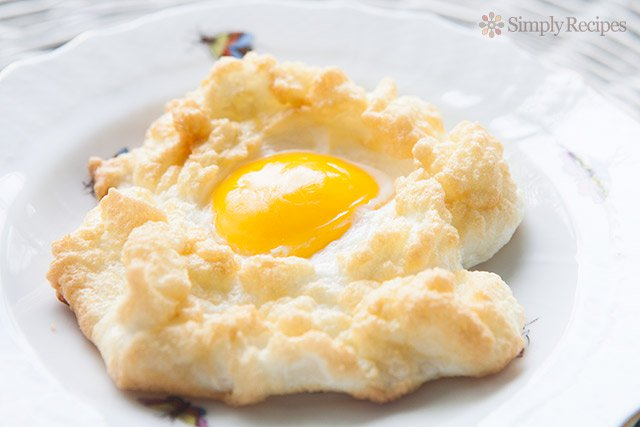fried egg: (160, 89, 434, 352)
